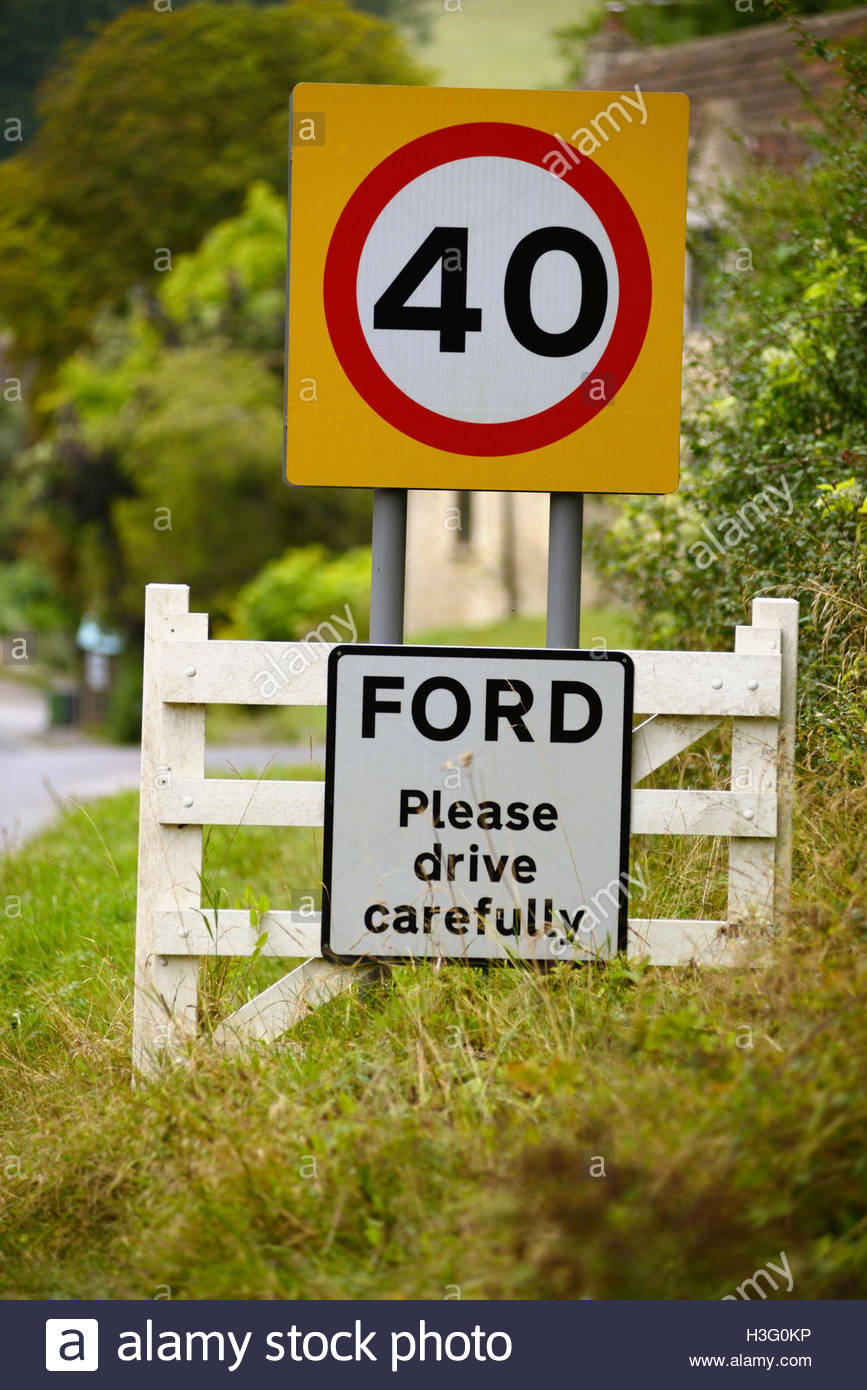speed_limit_40: (322, 125, 656, 459)
